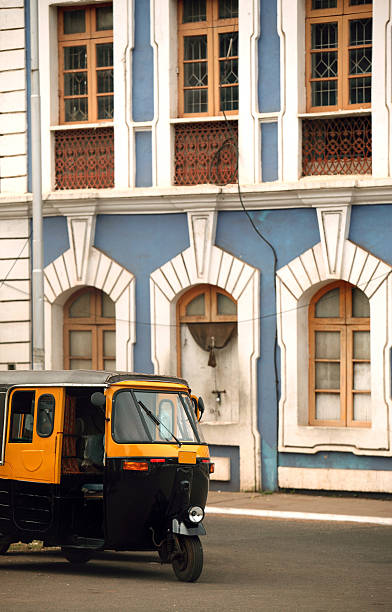threewheel: (1, 369, 216, 583)
